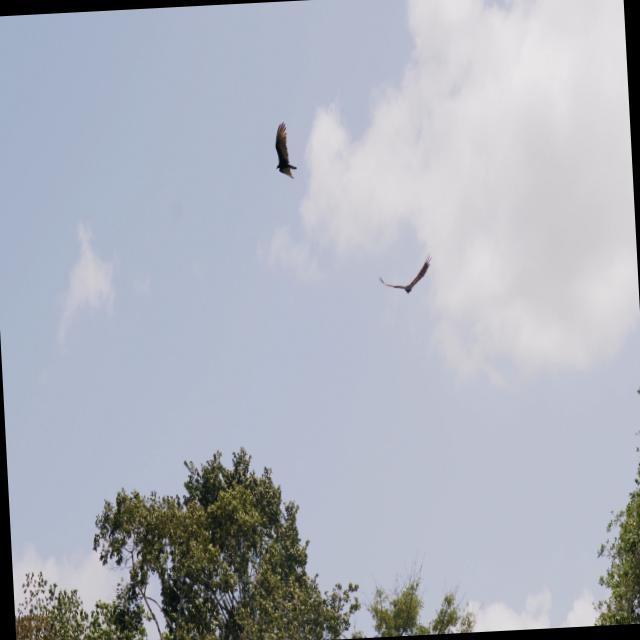bird: (376, 249, 436, 299), (273, 119, 299, 181)
